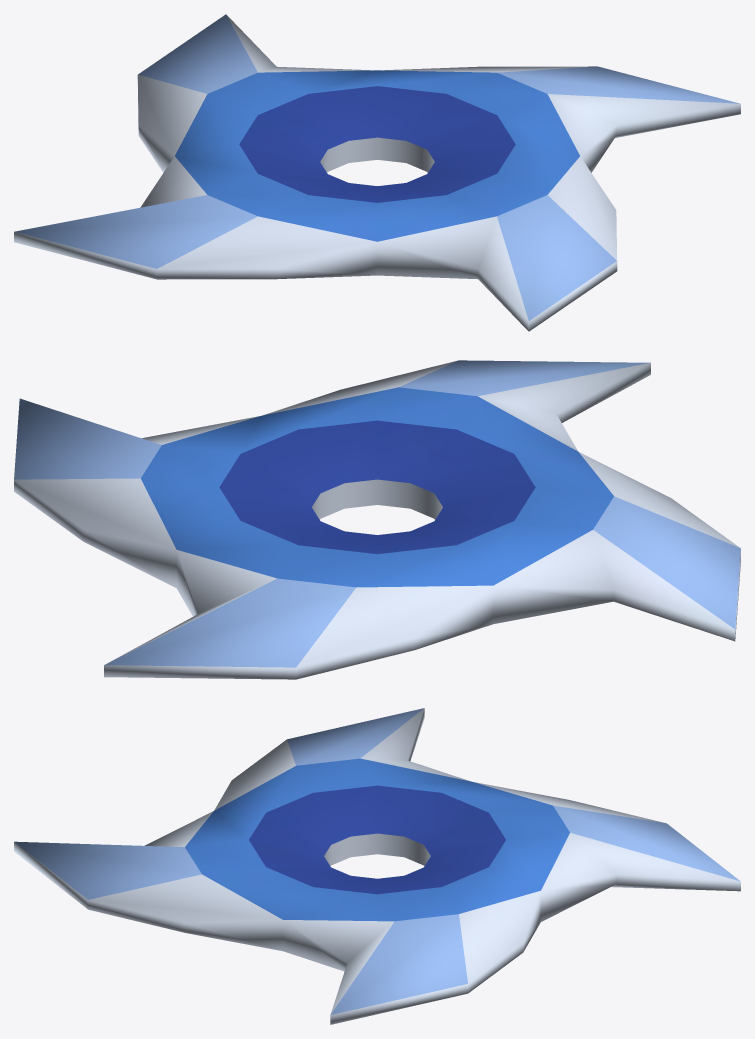
The model's file is Shuriken_Model.FBX.
3 views of the same model, one above another, from view 1: azimuth 30°, elevation 25°; view 2: azimuth 150°, elevation 25°; view 3: azimuth 270°, elevation 25° (orthographic). The views are drawn at different scales.
Visible parts, largest first — view 1: shuriken; view 2: shuriken; view 3: shuriken.
Boxes of the visible parts, x1,y1,x2,y2 form: shuriken: [14, 14, 740, 331]; shuriken: [14, 360, 740, 679]; shuriken: [14, 708, 740, 1024].
Size of the model in its own units: 79.95 by 6.44 by 79.95.
Materials: 1 (1 with a texture image).
